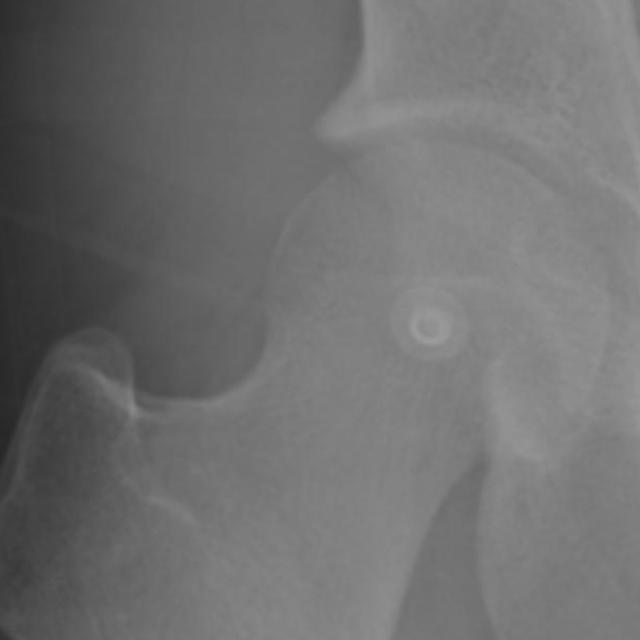Fitted_femural_head: (351, 141, 432, 351)
